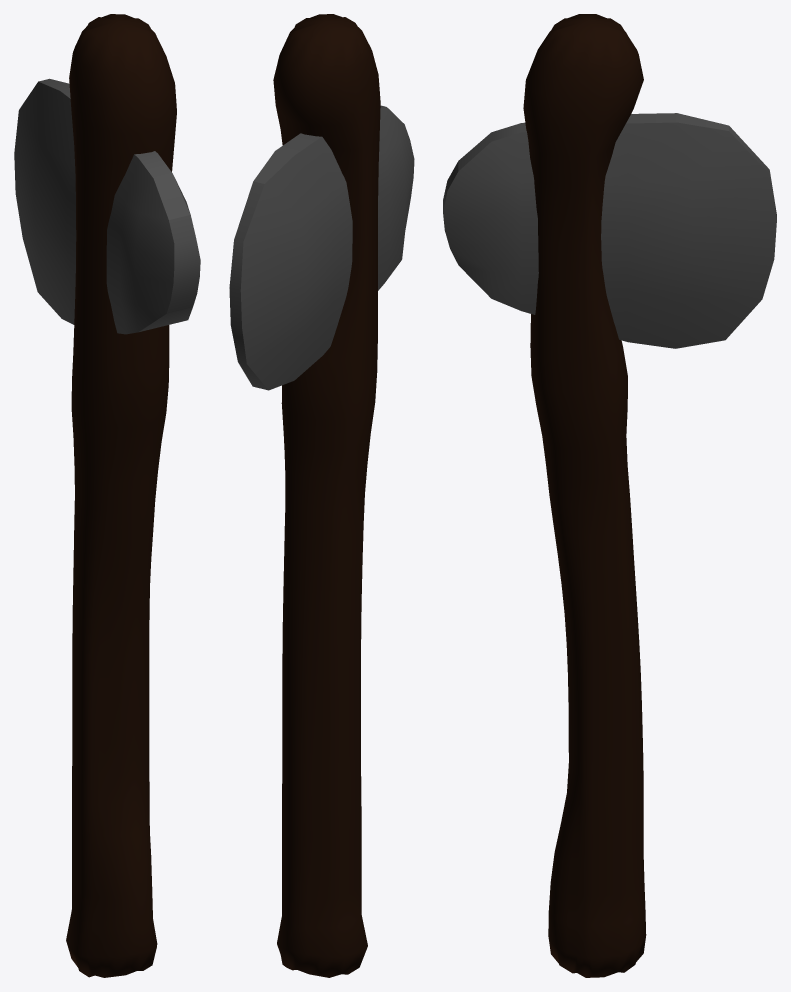
Rendered from axe.FBX.
3 renders of one model, left to right at view 1: azimuth 30°, elevation 25°; view 2: azimuth 150°, elevation 25°; view 3: azimuth 270°, elevation 25°, orthographic.
Visible parts, largest first — view 1: sopa, tas; view 2: sopa, tas; view 3: sopa, tas.
Boxes of the visible parts, bbox=[...] form: sopa: bbox=[66, 14, 176, 977]; tas: bbox=[14, 78, 200, 334]; sopa: bbox=[273, 14, 380, 977]; tas: bbox=[229, 105, 414, 390]; sopa: bbox=[523, 14, 646, 977]; tas: bbox=[443, 113, 776, 348].
Bounding box in the file's own units: 1.39 × 14.3 × 4.56.
